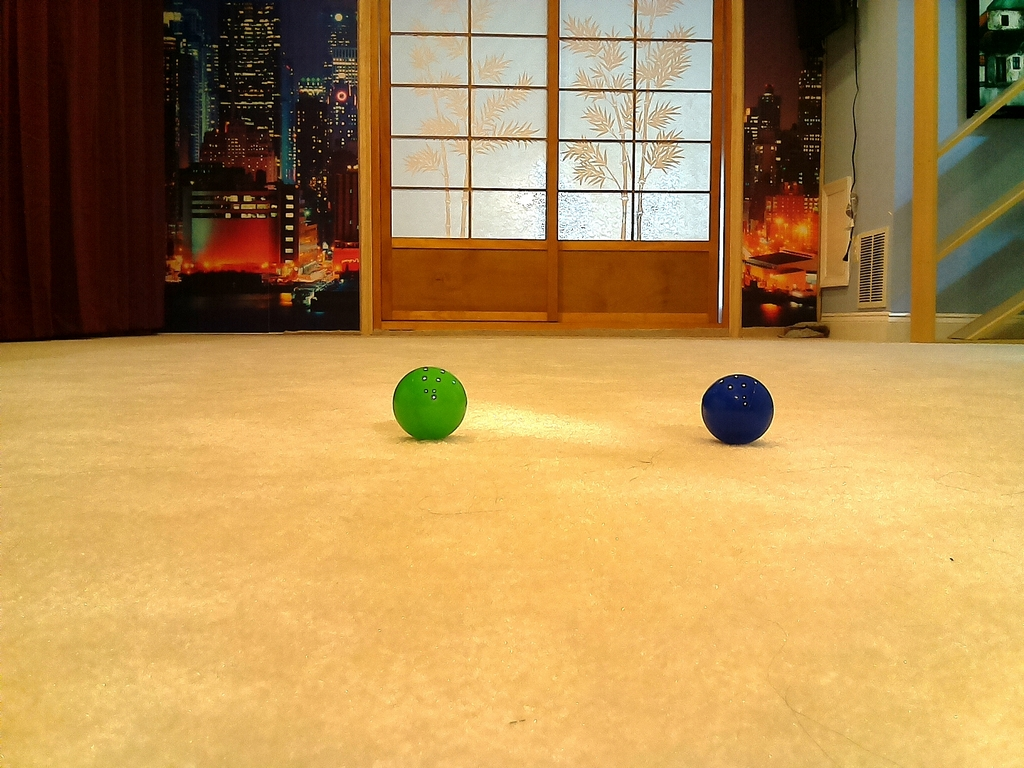ball: (394, 367, 468, 441)
